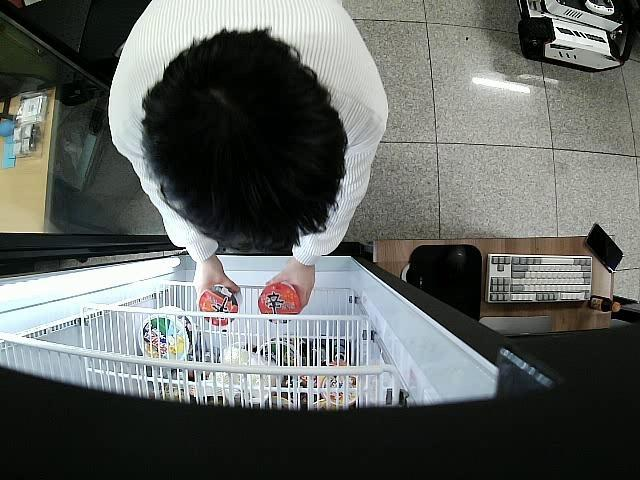02_shinRamen_S: (200, 286, 242, 326), (260, 283, 300, 321)
